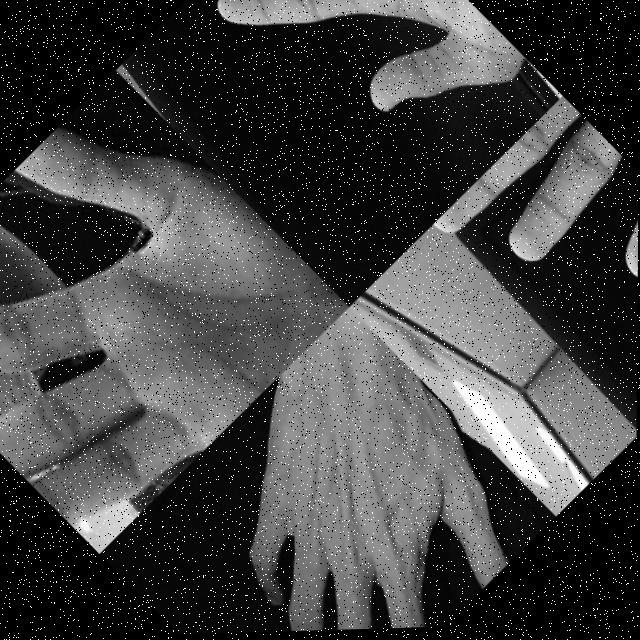hand: (0, 64, 351, 556), (125, 303, 558, 637), (190, 0, 528, 202), (433, 96, 639, 408)
